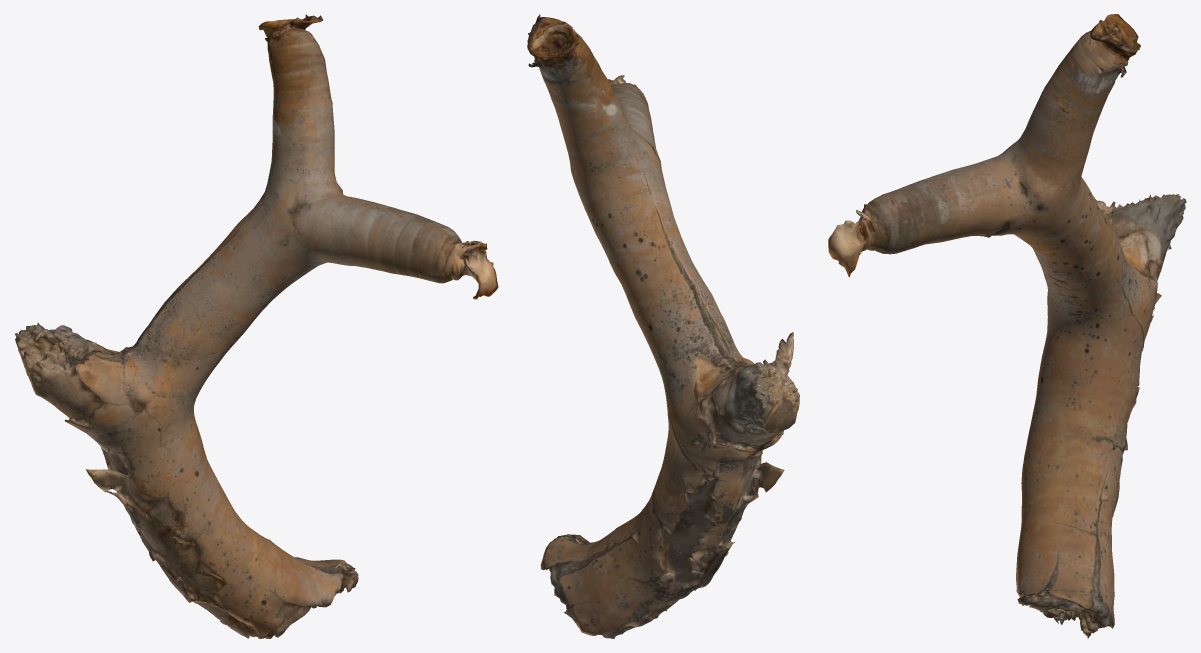
Rendered from tree_branch1.glb.
3 renders of one model, left to right at view 1: azimuth 30°, elevation 25°; view 2: azimuth 150°, elevation 25°; view 3: azimuth 270°, elevation 25°, orthographic. The views are drawn at different scales.
Visible parts, largest first — view 1: dead_quiver_branch_01; view 2: dead_quiver_branch_01; view 3: dead_quiver_branch_01.
Boxes of the visible parts, x1,y1,x2,y2 form: dead_quiver_branch_01: [14, 14, 498, 638]; dead_quiver_branch_01: [527, 14, 799, 638]; dead_quiver_branch_01: [828, 14, 1186, 638].
Bounding box in the file's own units: 0.2549 × 0.4387 × 0.227.
Materials: 1 (1 with a texture image).
